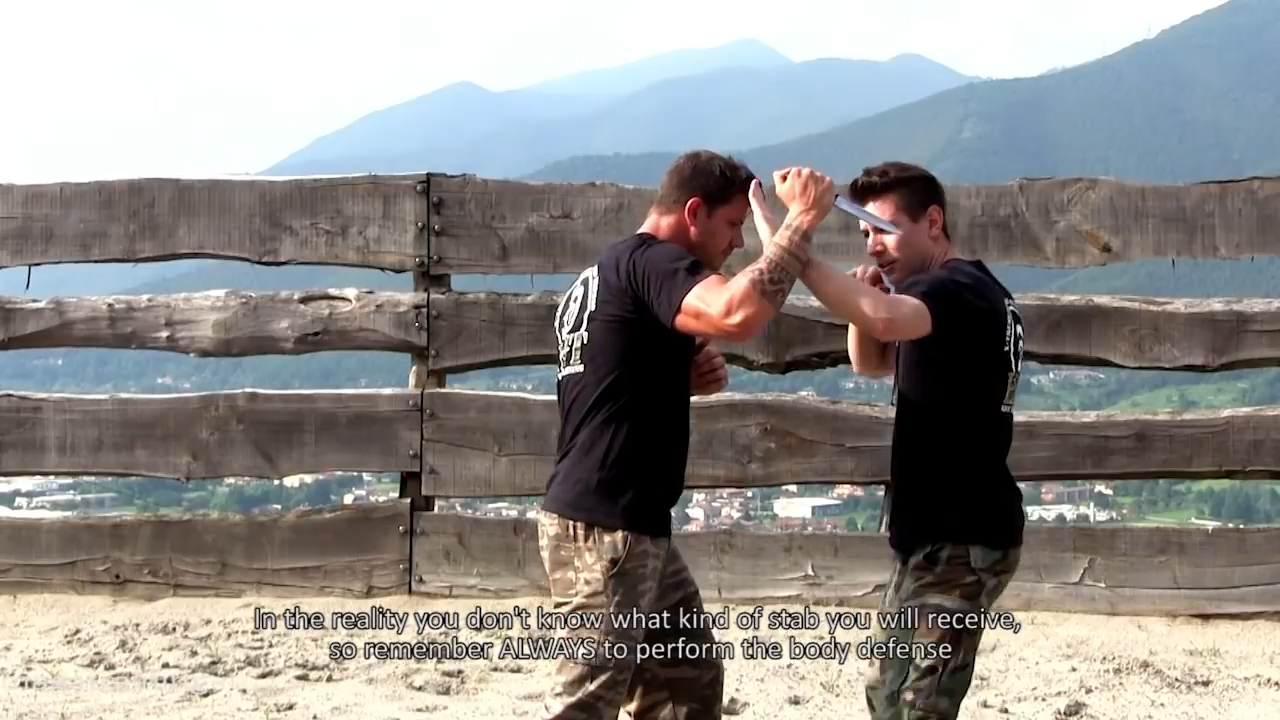knife: (773, 165, 907, 236)
